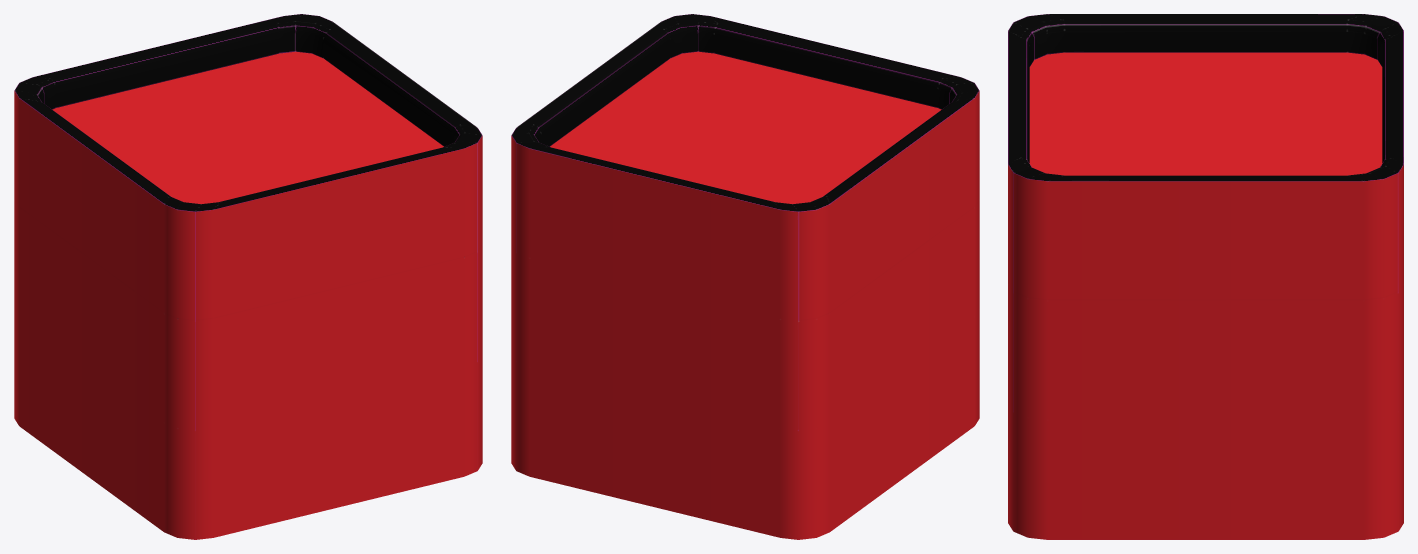
Rendered from StageRedLv3.fbx.
3 views of the same model, side by side, from view 1: azimuth 30°, elevation 25°; view 2: azimuth 150°, elevation 25°; view 3: azimuth 270°, elevation 25° (orthographic). The views are drawn at different scales.
Visible parts, largest first — view 1: pCube1; view 2: pCube1; view 3: pCube1.
Boxes of the visible parts, x1,y1,x2,y2 form: pCube1: (14, 14, 482, 539); pCube1: (511, 14, 979, 539); pCube1: (1008, 14, 1403, 539).
Bounding box in the file's own units: 1 × 1 × 1.
1 material, 1 textured.
